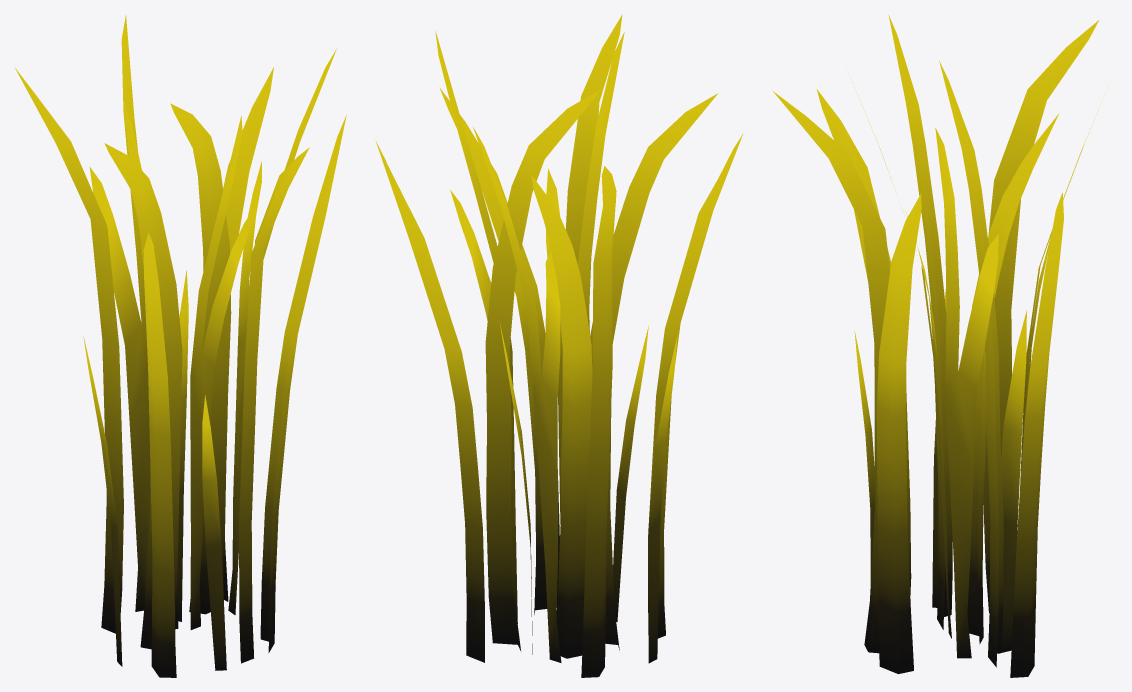
Rendered from Grass_Common_Tall.glb.
The picture shows the model from 3 angles, left to right: view 1: azimuth 30°, elevation 25°; view 2: azimuth 150°, elevation 25°; view 3: azimuth 270°, elevation 25°; orthographic projection. The views are drawn at different scales.
Visible parts, largest first — view 1: Grass_Common_Tall; view 2: Grass_Common_Tall; view 3: Grass_Common_Tall.
Part boxes in pixels (x1,y1,x2,y2): Grass_Common_Tall: [15, 15, 346, 677]; Grass_Common_Tall: [375, 14, 743, 677]; Grass_Common_Tall: [773, 15, 1101, 677].
Bounding box in the file's own units: 0.8951 × 1.87 × 0.9931.
Materials: 1 (1 with a texture image).
